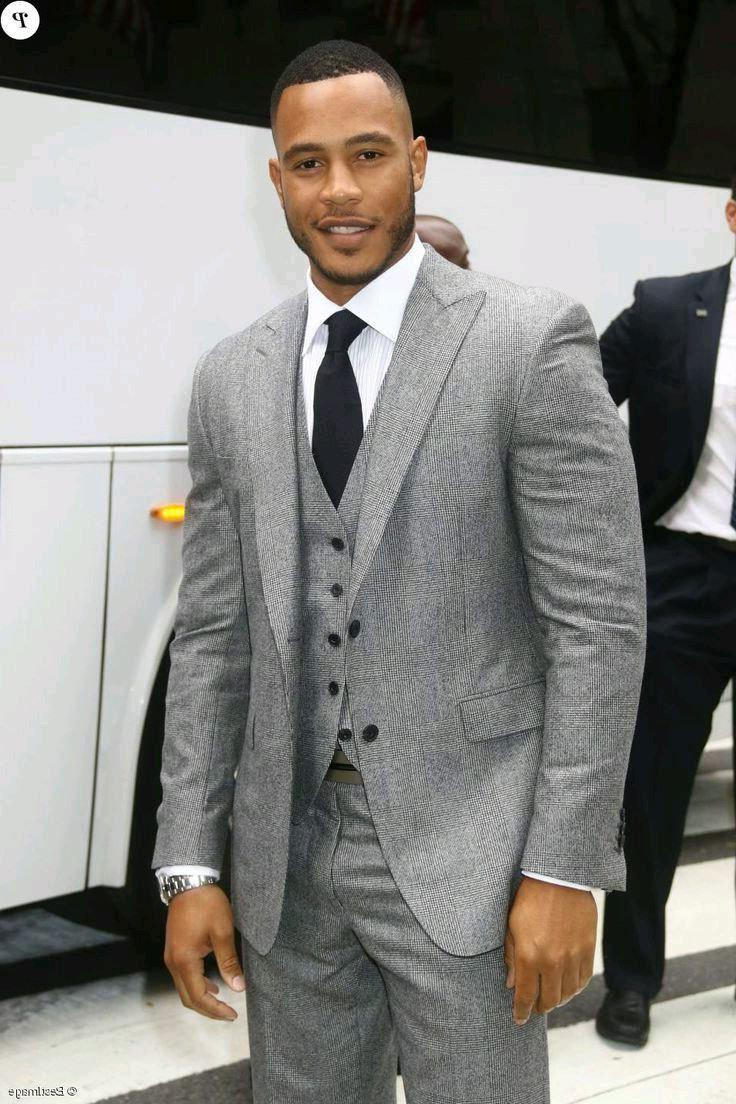Sober: (288, 86, 404, 265)
